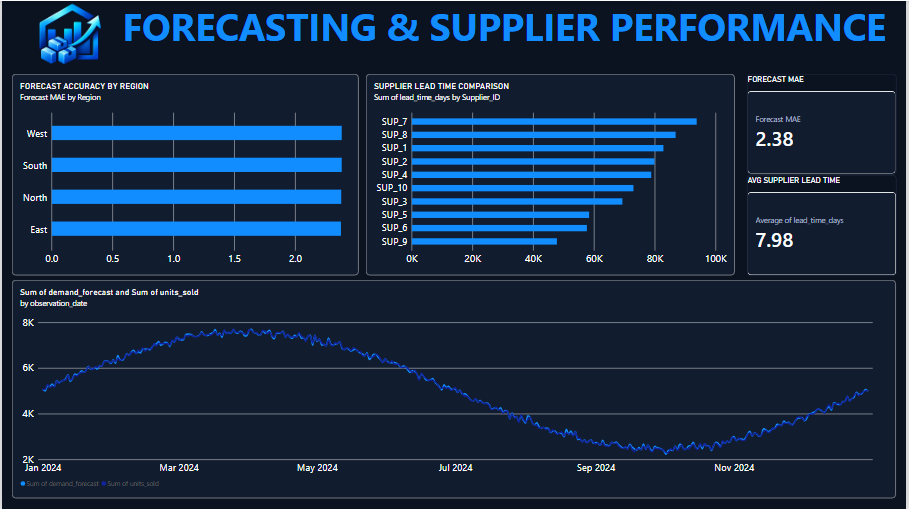

The page's visual inventory and layout, read from the dashboard file:
{"tool":"powerbi","page":{"name":"Forecasting & Supplier Performance","canvas":[1920,1080],"ordinal":2},"visuals":[{"type":"textbox","box":[213.8,0,1706.4,155.5],"z":0},{"type":"image","box":[0,0,285.1,138.2],"z":1},{"type":"clusteredBarChart","title":"FORECAST ACCURACY BY REGION","fields":{"Category":["inventory_analysis csv.Region"],"Y":["inventory_analysis csv.Forecast MAE"]},"box":[21.6,155.5,736.6,427.7],"z":2},{"type":"clusteredBarChart","title":"SUPPLIER LEAD TIME COMPARISON","fields":{"Category":["inventory_analysis csv.Supplier_ID"],"Y":["Sum(inventory_analysis csv.lead_time_days)"]},"box":[773.3,155.5,784.1,427.7],"z":3},{"type":"lineChart","fields":{"Category":["inventory_analysis csv.observation_date"],"Y":["Sum(inventory_analysis csv.demand_forecast)","Sum(inventory_analysis csv.units_sold)"]},"box":[21.6,594,1879.2,464.4],"z":4},{"type":"cardVisual","title":"FORECAST MAE","fields":{"Data":["inventory_analysis csv.Forecast MAE"]},"box":[1583.3,155.5,317.5,213.8],"z":5},{"type":"cardVisual","title":"AVG SUPPLIER LEAD TIME","fields":{"Data":["Avg(inventory_analysis csv.lead_time_days)"]},"box":[1583,370,318,214],"z":6}]}

Visuals, with their boxes in screenshot pixels (x1, y1, x2, y2), scaled from the page's 1920x1080 canvas onto the 909x509 screenshot:
textbox: select_region(101, 0, 908, 73)
image: select_region(0, 0, 135, 65)
"FORECAST ACCURACY BY REGION" clusteredBarChart: select_region(10, 73, 359, 275)
"SUPPLIER LEAD TIME COMPARISON" clusteredBarChart: select_region(366, 73, 737, 275)
lineChart - inventory_analysis csv.observation_date x Sum(inventory_analysis csv.demand_forecast): select_region(10, 280, 900, 499)
"FORECAST MAE" cardVisual: select_region(750, 73, 900, 174)
"AVG SUPPLIER LEAD TIME" cardVisual: select_region(749, 174, 900, 275)
